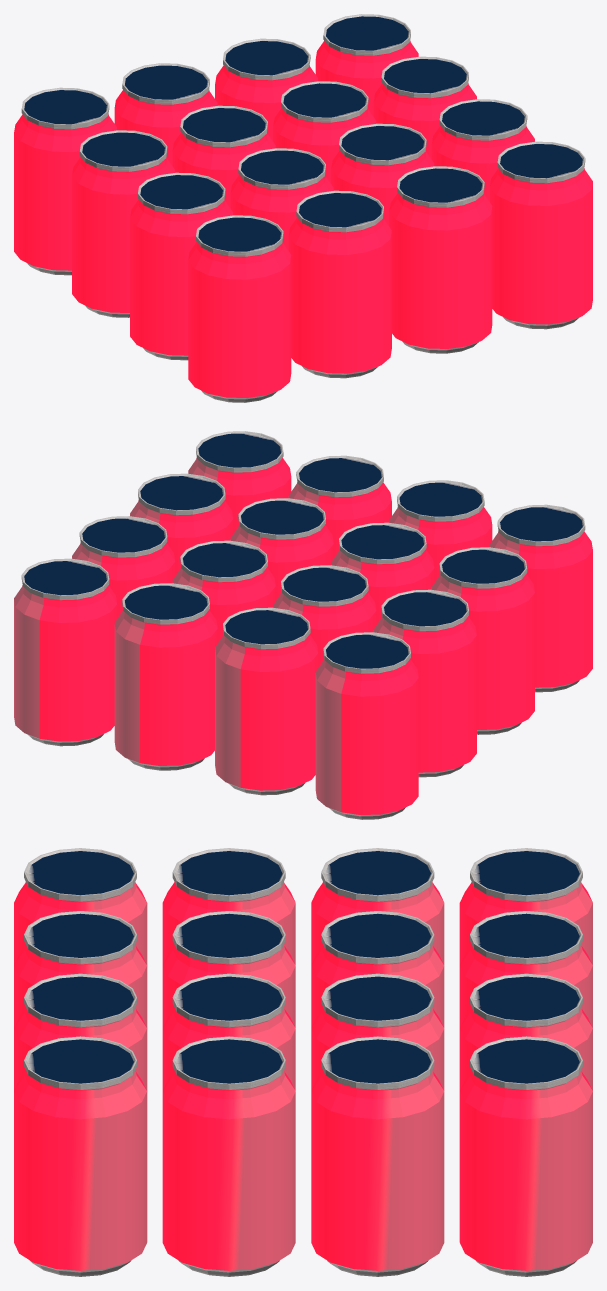
The model's file is Coke_SodaCan.fbx.
3 renders of one model, top to bottom at view 1: azimuth 30°, elevation 25°; view 2: azimuth 150°, elevation 25°; view 3: azimuth 270°, elevation 25°, orthographic. The views are drawn at different scales.
Parts seen in each view (by area): view 1: soda_can; view 2: soda_can; view 3: soda_can.
Part boxes in pixels (bbox=[...]): soda_can: bbox=[14, 14, 592, 402]; soda_can: bbox=[14, 431, 592, 819]; soda_can: bbox=[14, 848, 592, 1276].
Bounding box in the file's own units: 38.96 × 14.45 × 38.96.
